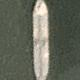ship: (22, 0, 57, 40)
